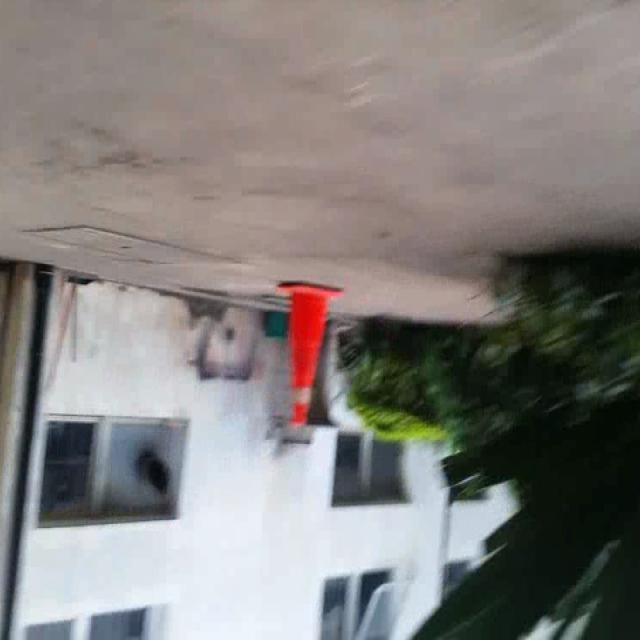cone: (276, 281, 344, 428)
